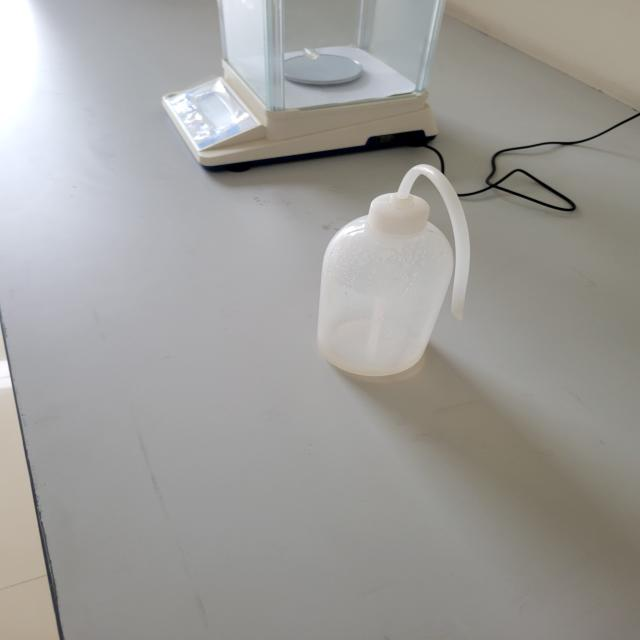Wash_Bottle: (290, 135, 511, 408)
